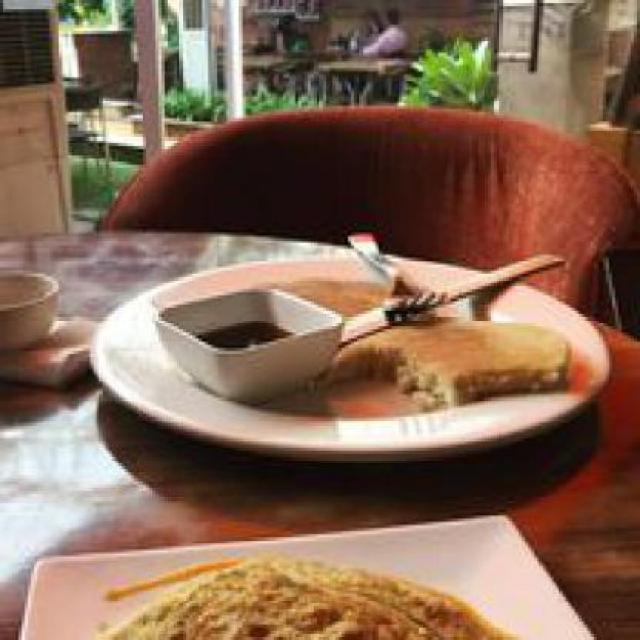omelette: (100, 546, 526, 637)
pancakes: (217, 273, 578, 410)
